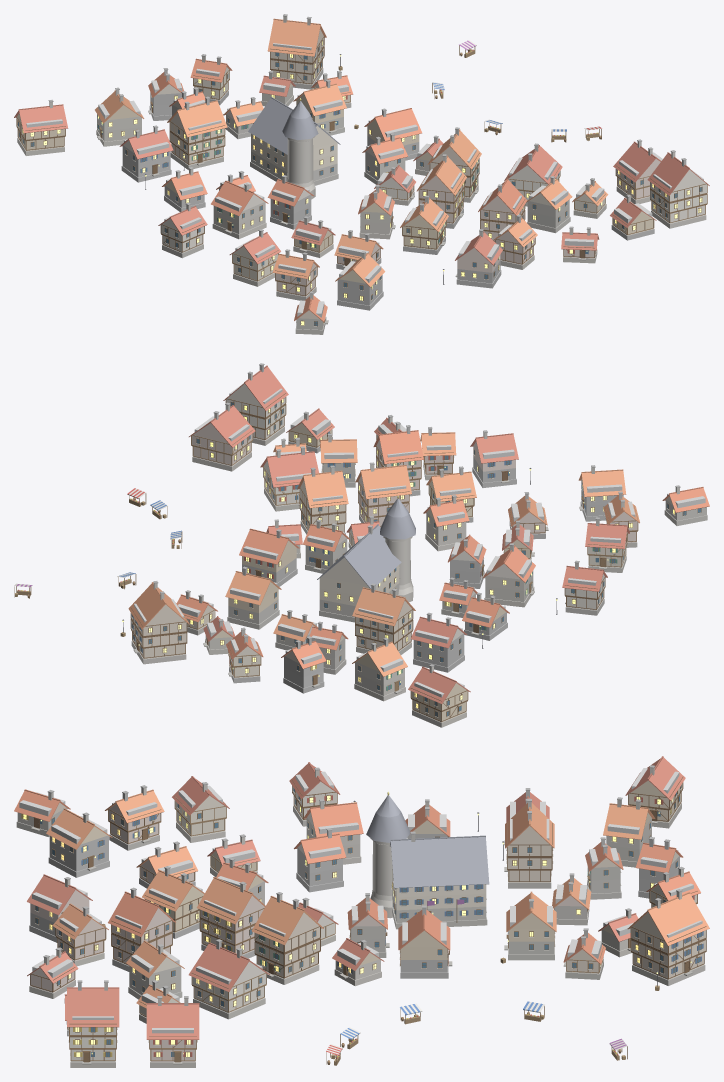
File: struct_7_8.glb
The picture shows the model from 3 angles, top to bottom: view 1: azimuth 30°, elevation 25°; view 2: azimuth 150°, elevation 25°; view 3: azimuth 270°, elevation 25°; orthographic projection. The views are drawn at different scales.
Parts seen in each view (by area): view 1: HousesNear, Landmarks, Occluder-occonly, HousesFar; view 2: HousesNear, Landmarks, Occluder-occonly, HousesFar; view 3: HousesNear, Landmarks, Occluder-occonly, HousesFar.
Part boxes in pixels (left/top/right/bottom): HousesNear: left=14, top=16, right=709, bottom=334; Landmarks: left=145, top=40, right=601, bottom=284; Occluder-occonly: left=26, top=43, right=703, bottom=317; HousesFar: left=102, top=14, right=686, bottom=260; HousesNear: left=128, top=365, right=709, bottom=727; Landmarks: left=14, top=468, right=557, bottom=648; Occluder-occonly: left=134, top=383, right=705, bottom=697; HousesFar: left=160, top=363, right=624, bottom=685; HousesNear: left=14, top=756, right=709, bottom=1067; Landmarks: left=102, top=791, right=659, bottom=1065; Occluder-occonly: left=19, top=768, right=702, bottom=1033; HousesFar: left=40, top=785, right=682, bottom=1056.
Bounding box in the file's own units: 127 × 26.12 × 139.
